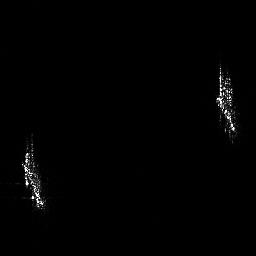ship: (20, 131, 48, 213), (214, 62, 241, 147)
